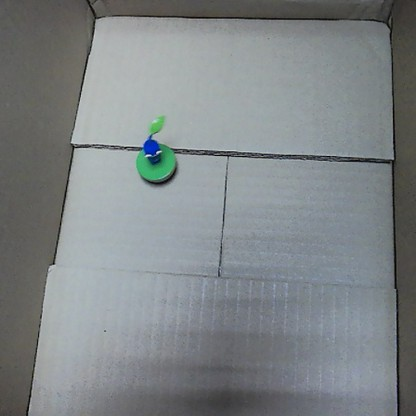leafairy: (137, 110, 178, 187)
